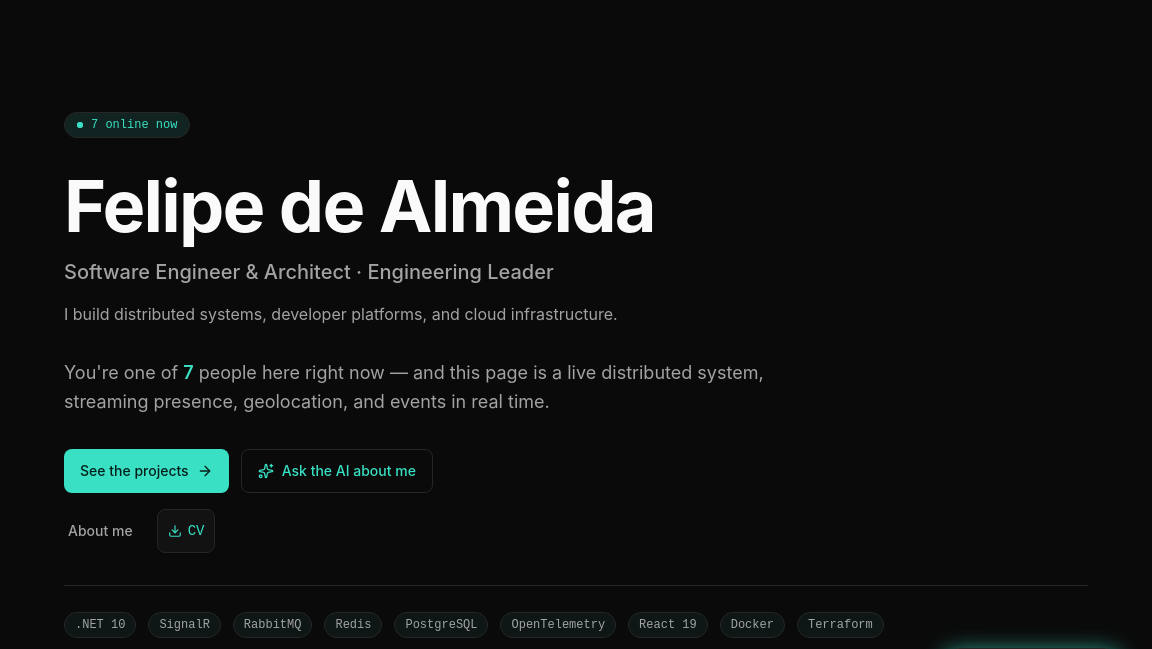
Test: Hero Ask CTA + AskWidget integration › opens the Ask widget via the shared store when the hero CTA is clicked
expect the text "ai assistant" is not shown: met
Click the button "Ask the AI about me" at (337, 470), box [241,448,433,492]
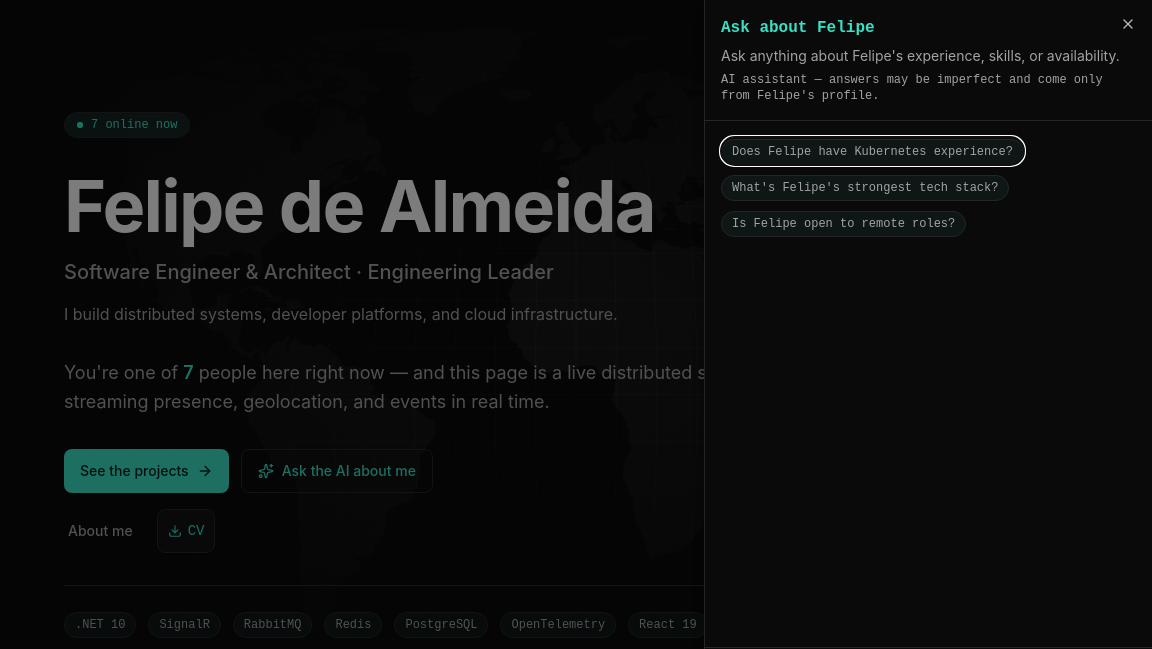
expect the text "AI assistant" is shown: met, box [721,73,1103,103]
